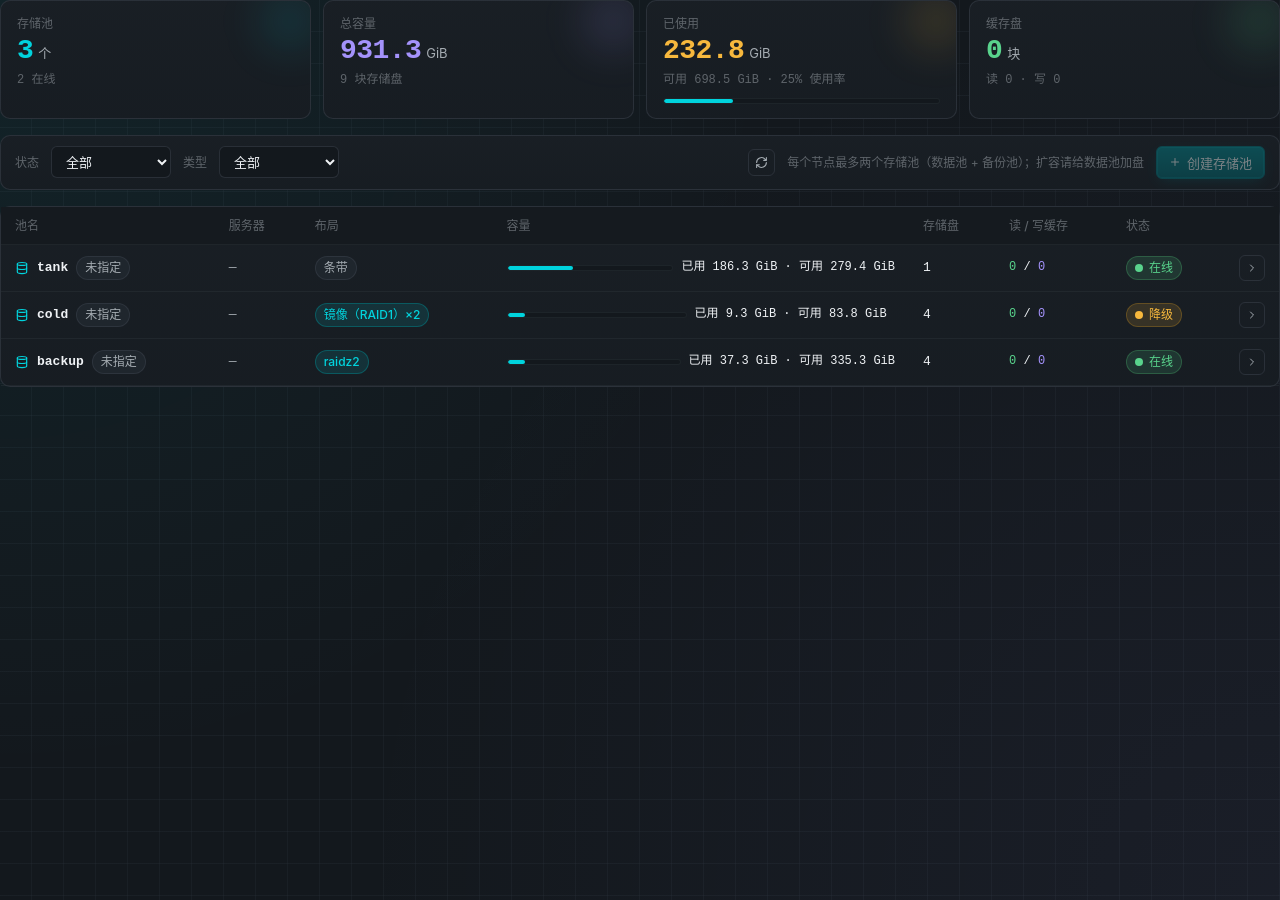
it: 存储页 › raidz 池整组加盘且没有加镜像盘
The image size is (1280, 900).
Click the text "backup" at (60, 362), box x1=37 y1=353 x2=84 y2=372
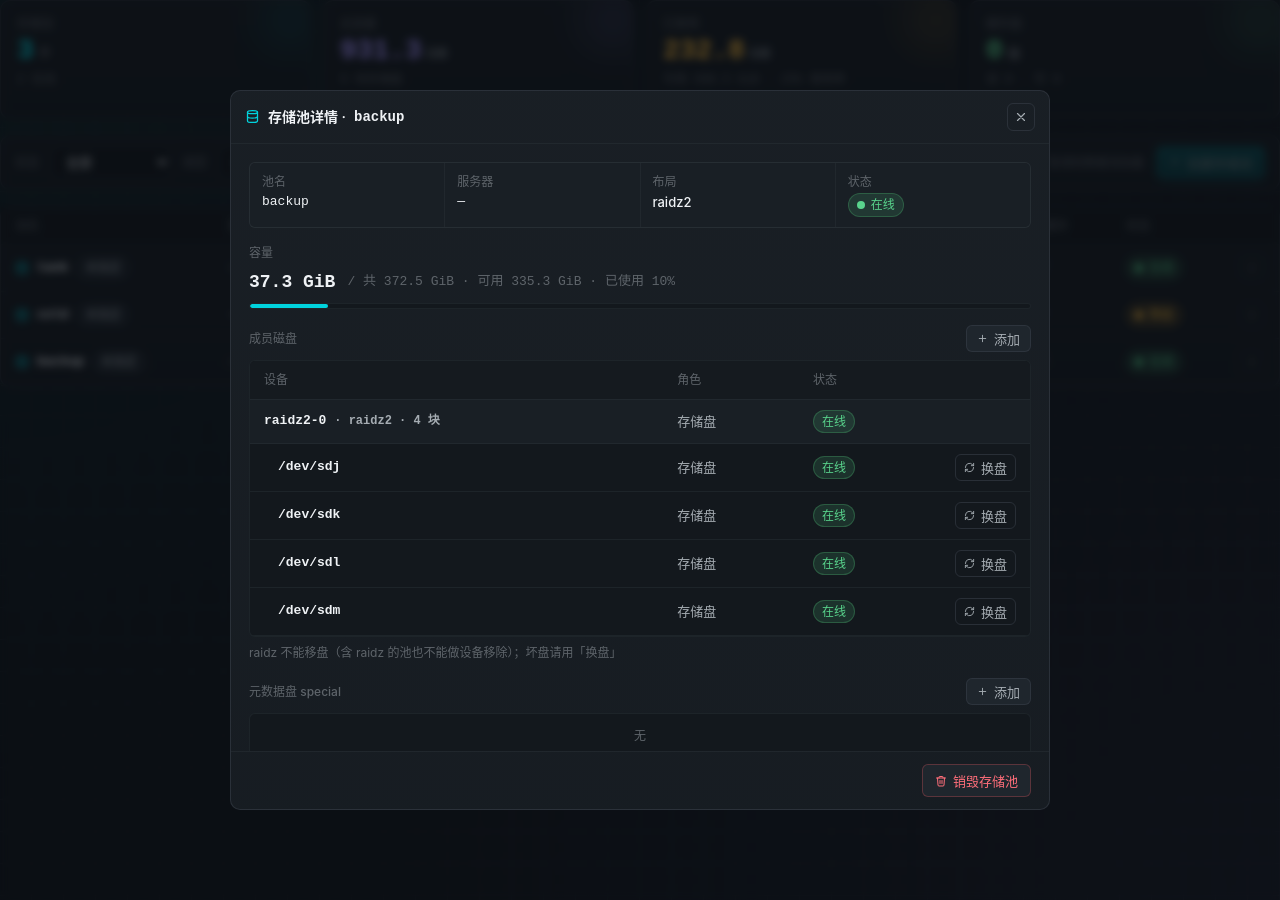
Expected: the text "raidz2-0" is shown, x1=264 y1=413 x2=326 y2=428
Click the button "添加" in the row of "成员磁盘" at (998, 339), box x1=966 y1=325 x2=1031 y2=352
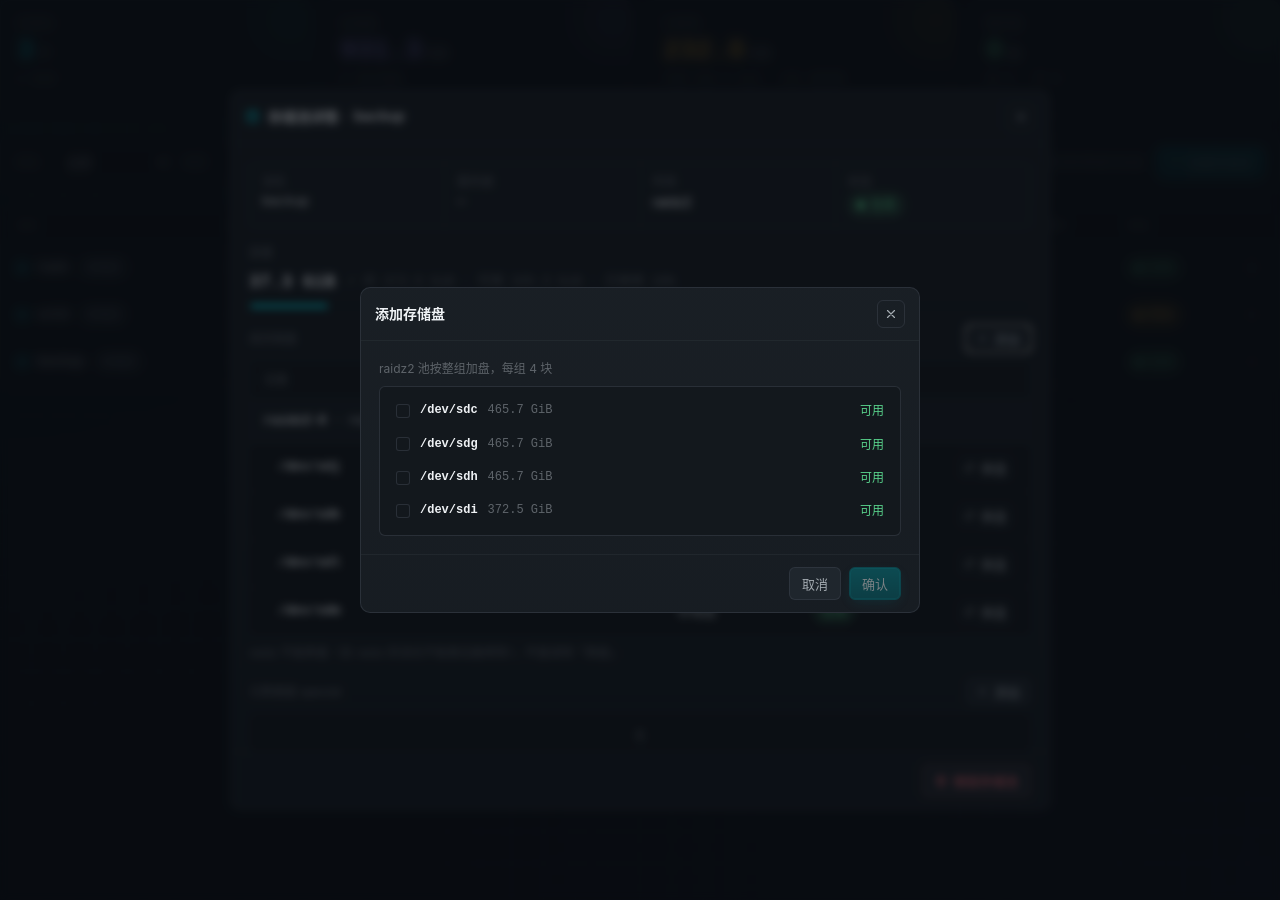
Click the text "/dev/sdc" at (449, 411), box x1=420 y1=402 x2=478 y2=420
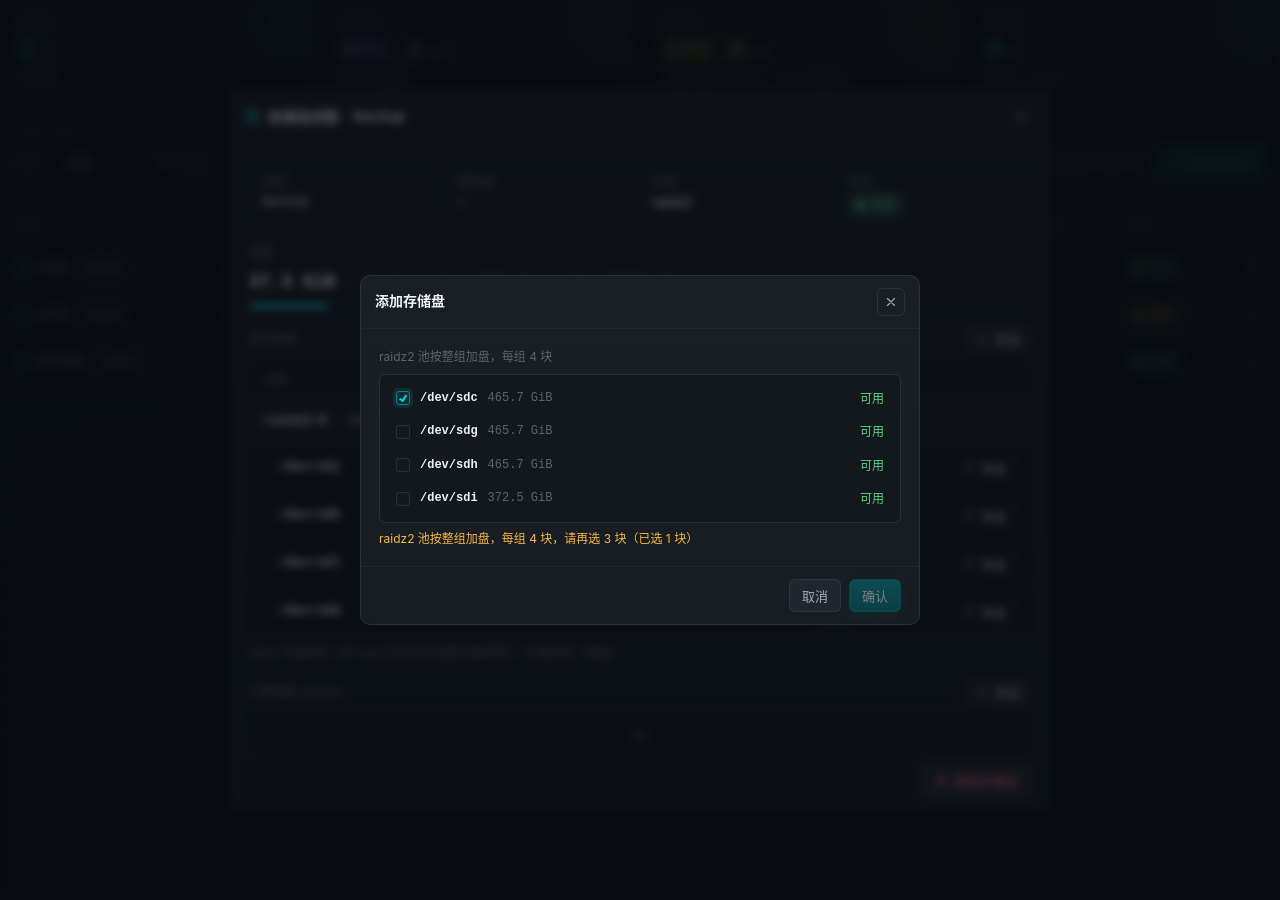
Expected: the button "确认" is disabled, x1=849 y1=580 x2=901 y2=612
Expected: the text "raidz2 池按整组加盘，每组 4 块，请再选 3 块（已选 1 块）" is shown, x1=379 y1=531 x2=698 y2=546
